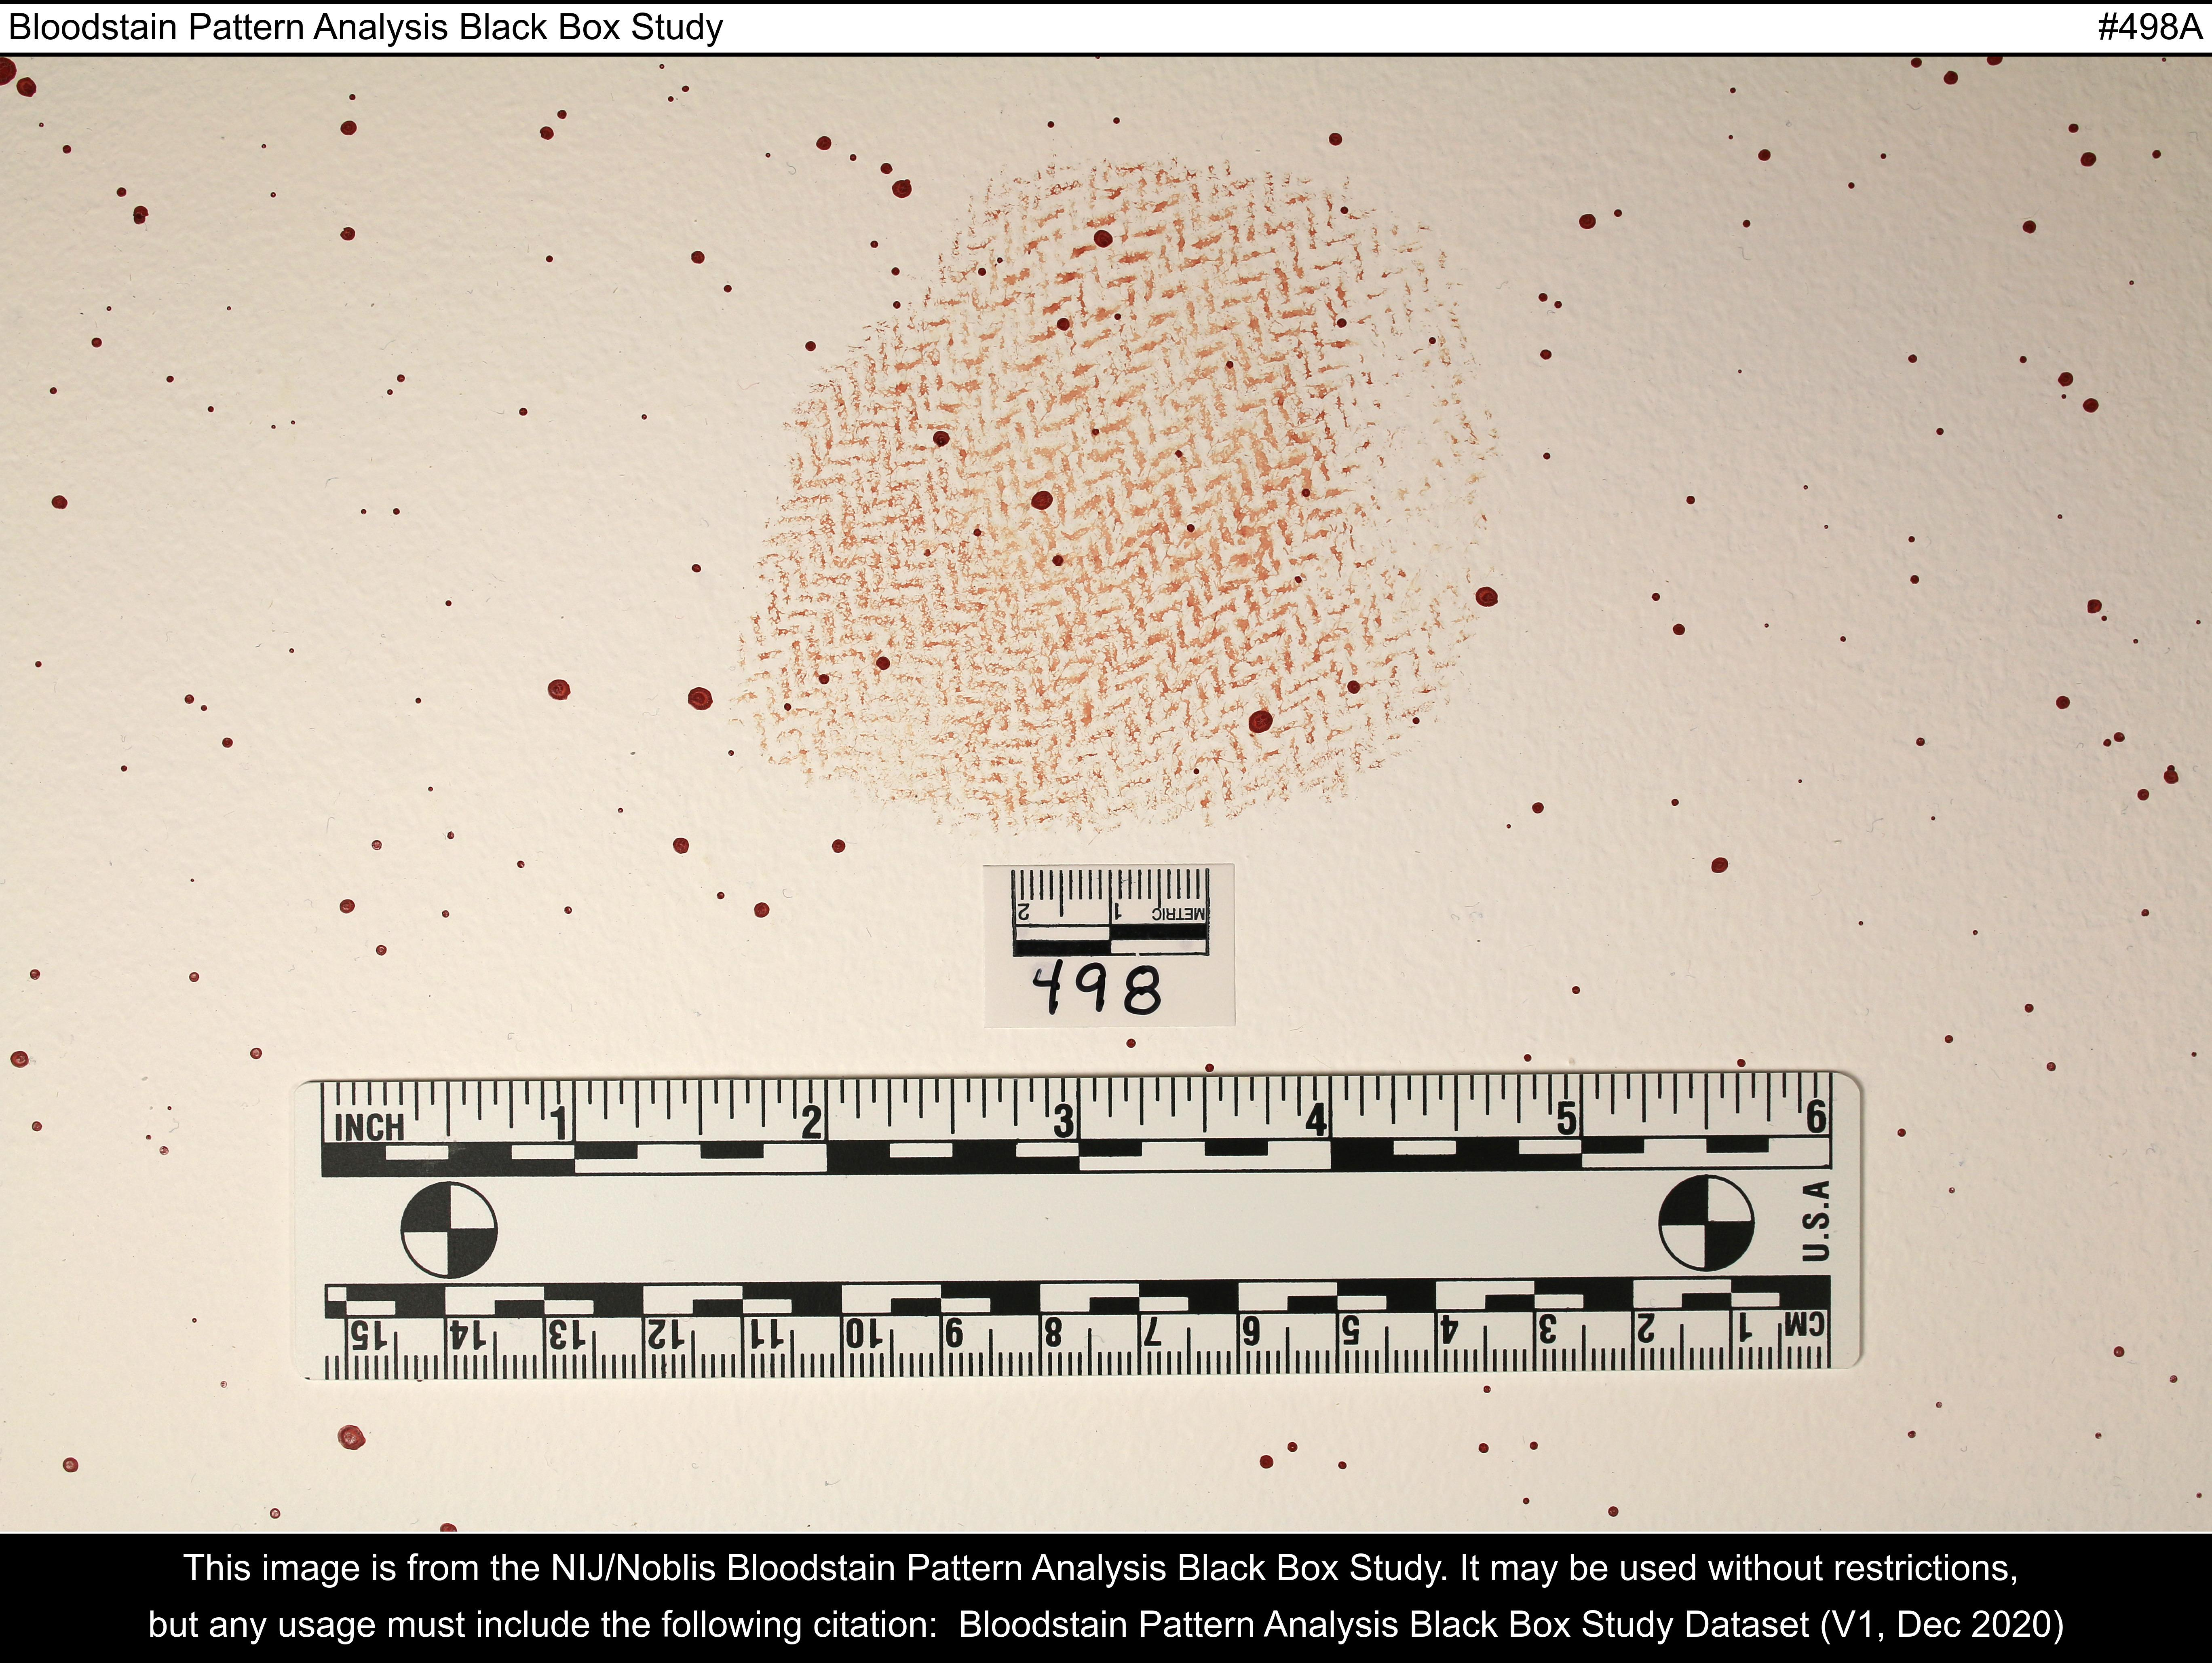Impact: (705, 162, 1500, 814)
